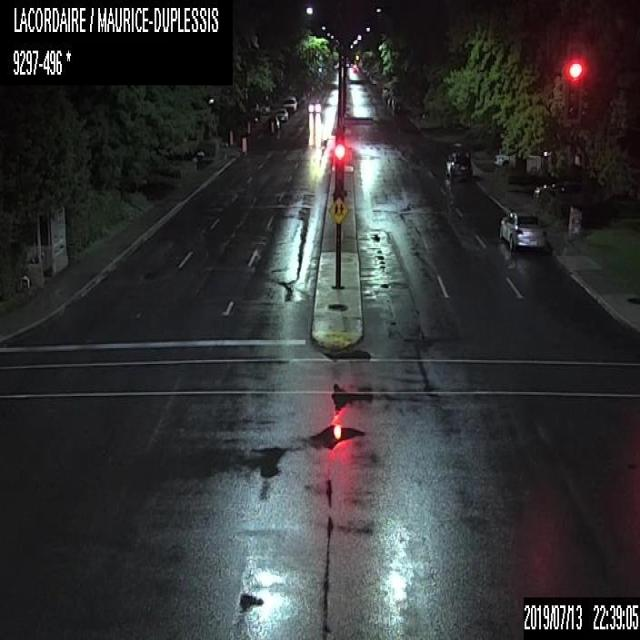construction: (240, 138, 246, 154), (228, 128, 233, 144), (245, 121, 250, 136)
vehicle: (498, 208, 547, 249), (494, 150, 542, 174), (444, 148, 474, 180), (281, 95, 297, 112), (392, 98, 407, 115), (252, 102, 270, 114), (267, 116, 279, 132), (305, 100, 320, 112), (274, 108, 289, 120)
